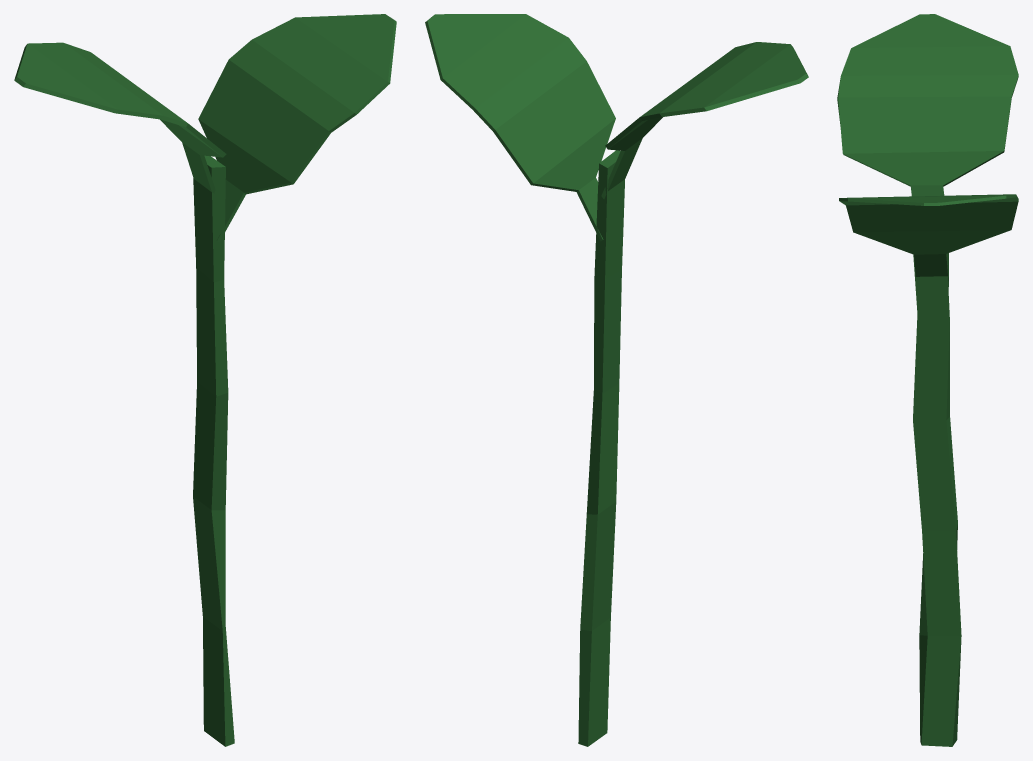
Rendered from planta2.fbx.
The picture shows the model from 3 angles, left to right: view 1: azimuth 30°, elevation 25°; view 2: azimuth 150°, elevation 25°; view 3: azimuth 270°, elevation 25°; orthographic projection. The views are drawn at different scales.
Visible parts, largest first — view 1: Plane.002; view 2: Plane.002; view 3: Plane.002.
Boxes of the visible parts, x1,y1,x2,y2 form: Plane.002: [14, 14, 396, 746]; Plane.002: [425, 14, 808, 746]; Plane.002: [837, 14, 1018, 746].
Bounding box in the file's own units: 267 × 483 × 124.
